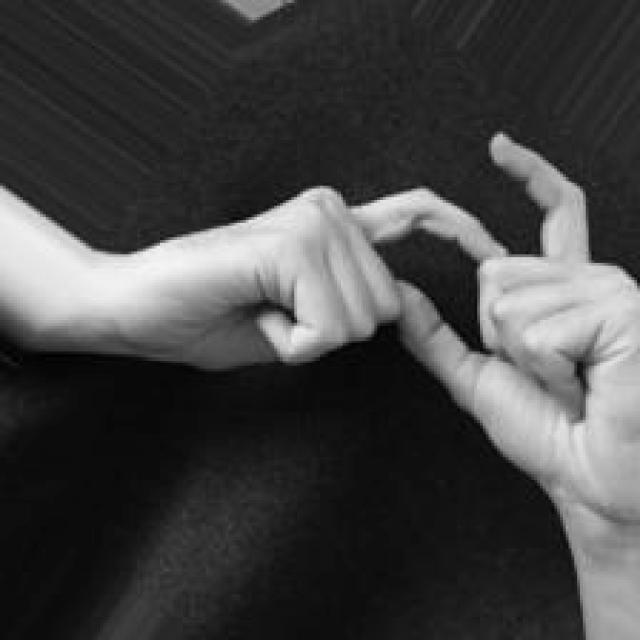G: (134, 126, 640, 537)
